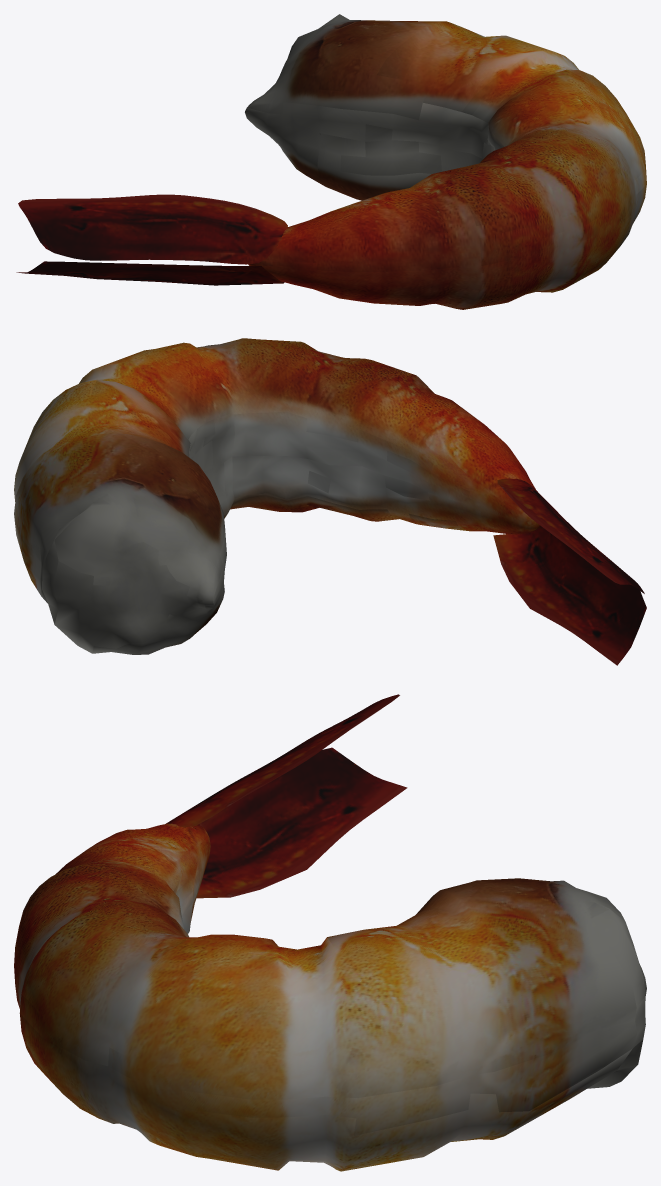
The model's file is shrimp.glb.
3 views of the same model, one above another, from view 1: azimuth 30°, elevation 25°; view 2: azimuth 150°, elevation 25°; view 3: azimuth 270°, elevation 25° (orthographic). The views are drawn at different scales.
Parts seen in each view (by area): view 1: Shrimp_Mesh_Baked; view 2: Shrimp_Mesh_Baked; view 3: Shrimp_Mesh_Baked.
Part boxes in pixels (x1,y1,x2,y2): Shrimp_Mesh_Baked: (16, 14, 646, 309); Shrimp_Mesh_Baked: (14, 338, 646, 665); Shrimp_Mesh_Baked: (14, 694, 646, 1171).
Bounding box in the file's own units: 0.075 × 0.0219 × 0.0557.
1 material, 1 textured.
